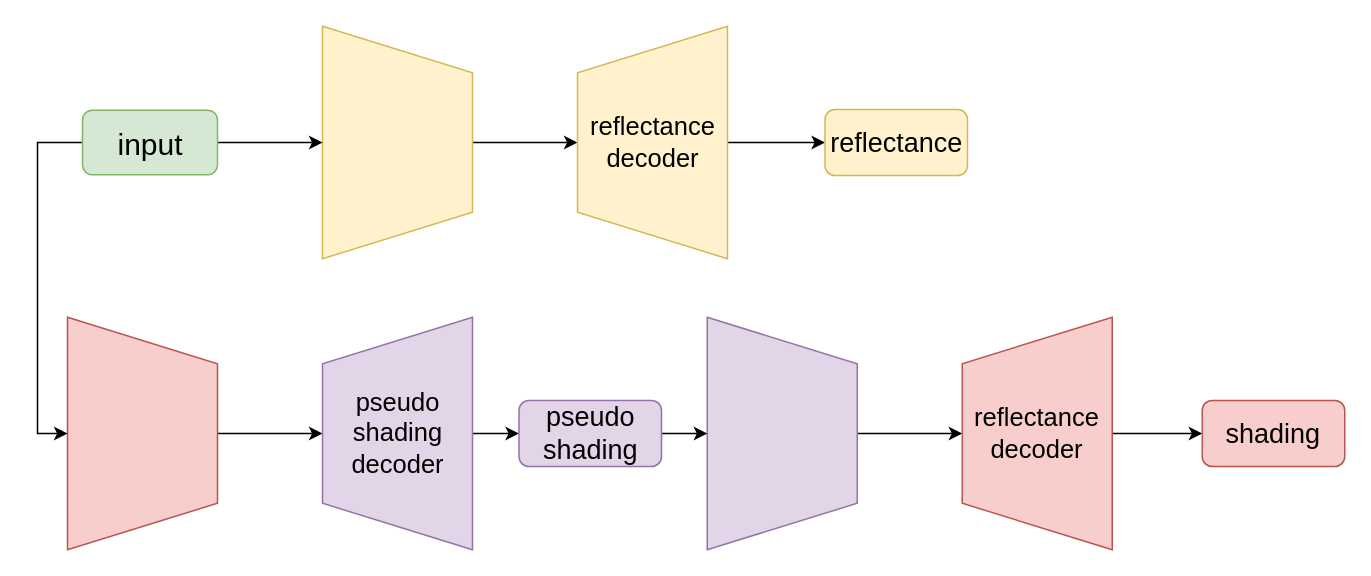
The diagram is 1371 pixels wide and 576 high, and some of its shapes have lost their labels. The shapes that lost their labels are listed below. From the top down, each one's centre as x and y in pixels, then its label:
At point 396,142: "reflectance encoder".
At point 142,433: "shading encoder".
At point 781,433: "pseudo shading encoder".
